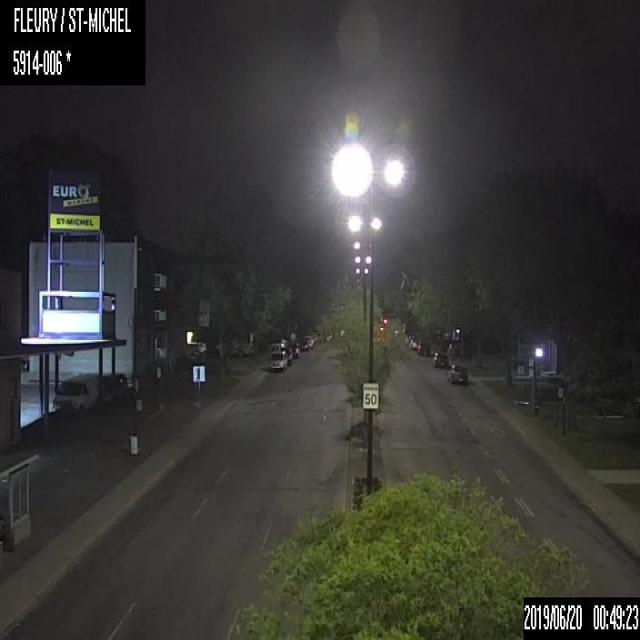vehicle: (48, 371, 102, 411), (99, 372, 126, 404), (447, 358, 471, 382), (266, 349, 287, 371), (431, 350, 447, 369), (418, 336, 432, 355), (283, 346, 292, 364)
